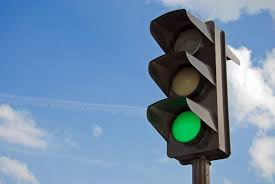green: (150, 10, 222, 160), (161, 19, 211, 153), (170, 24, 202, 146)
